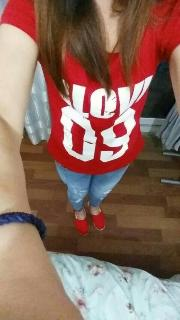short sleeve top: (0, 0, 180, 174)
trousers: (53, 149, 134, 212)
